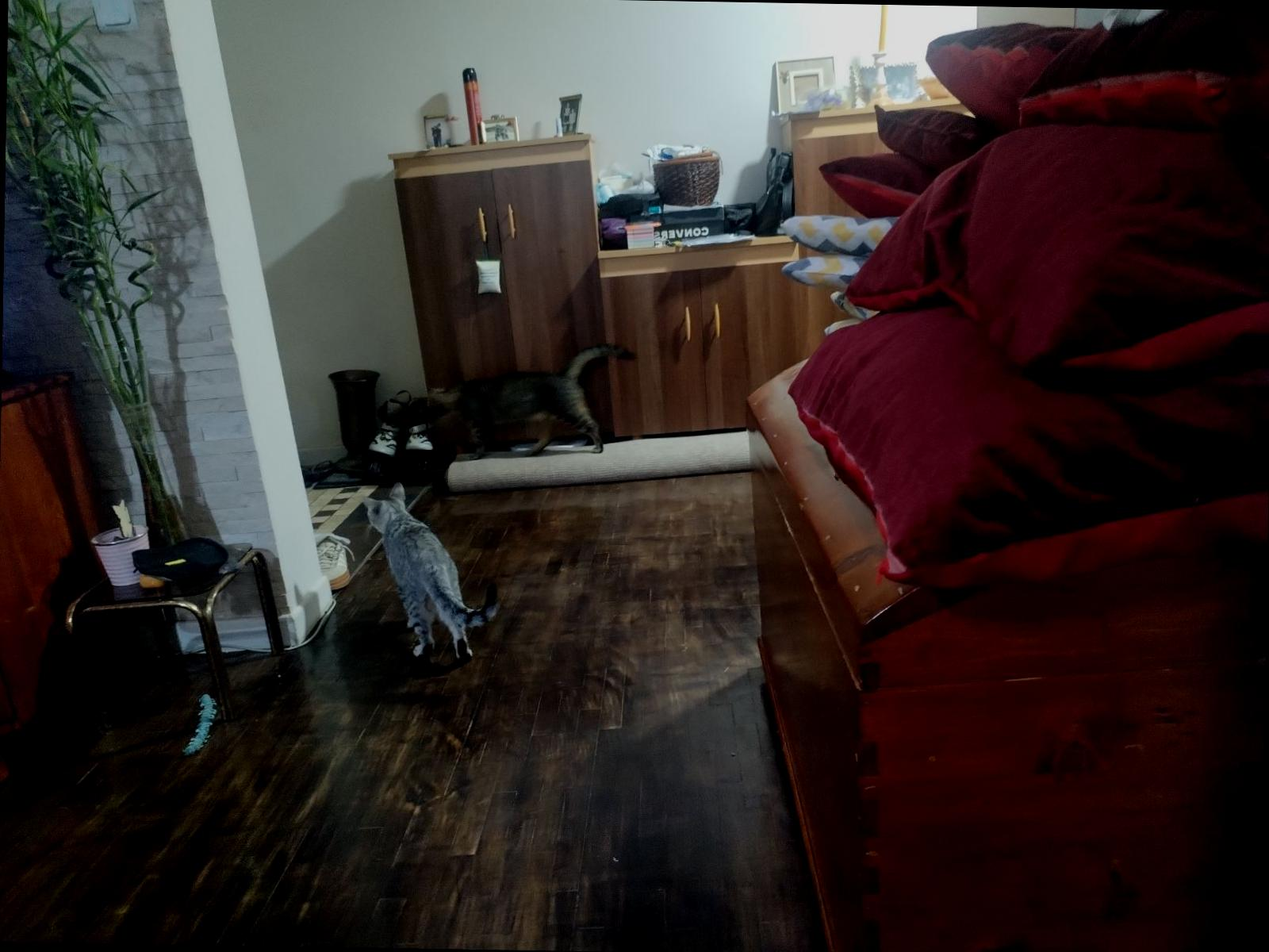macka: (357, 482, 502, 664), (422, 342, 639, 463)
